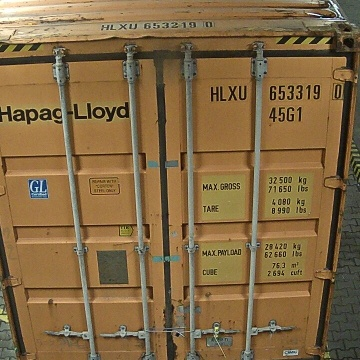serial_id: (211, 83, 343, 101)
